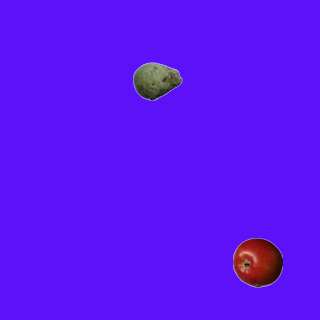Apple Braeburn: (232, 237, 282, 287)
Pear Stone: (132, 56, 182, 106)
